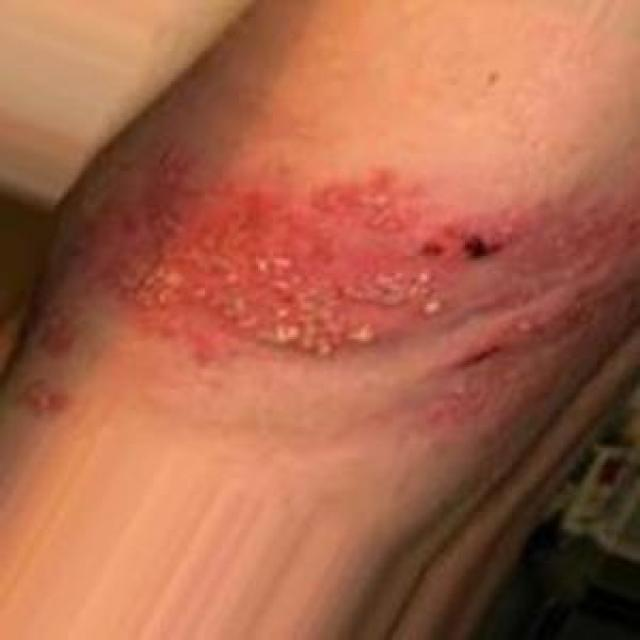Shingles: (94, 171, 460, 357)
